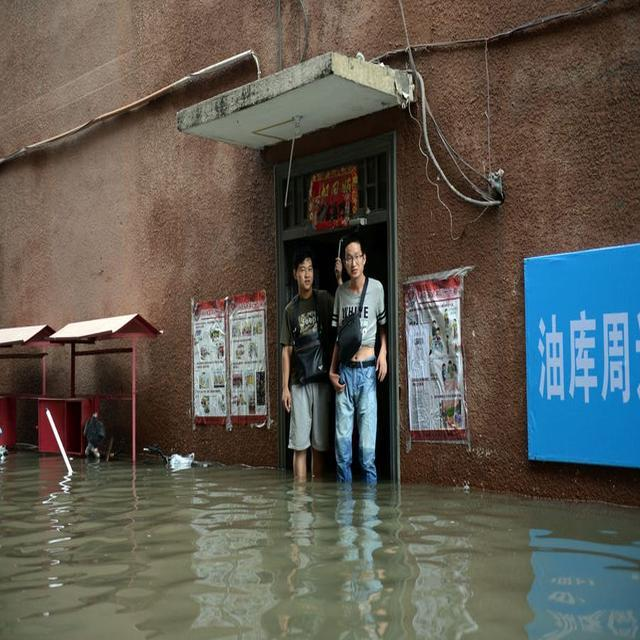Person-RiskLevel2: (321, 236, 404, 493), (273, 246, 326, 487)
